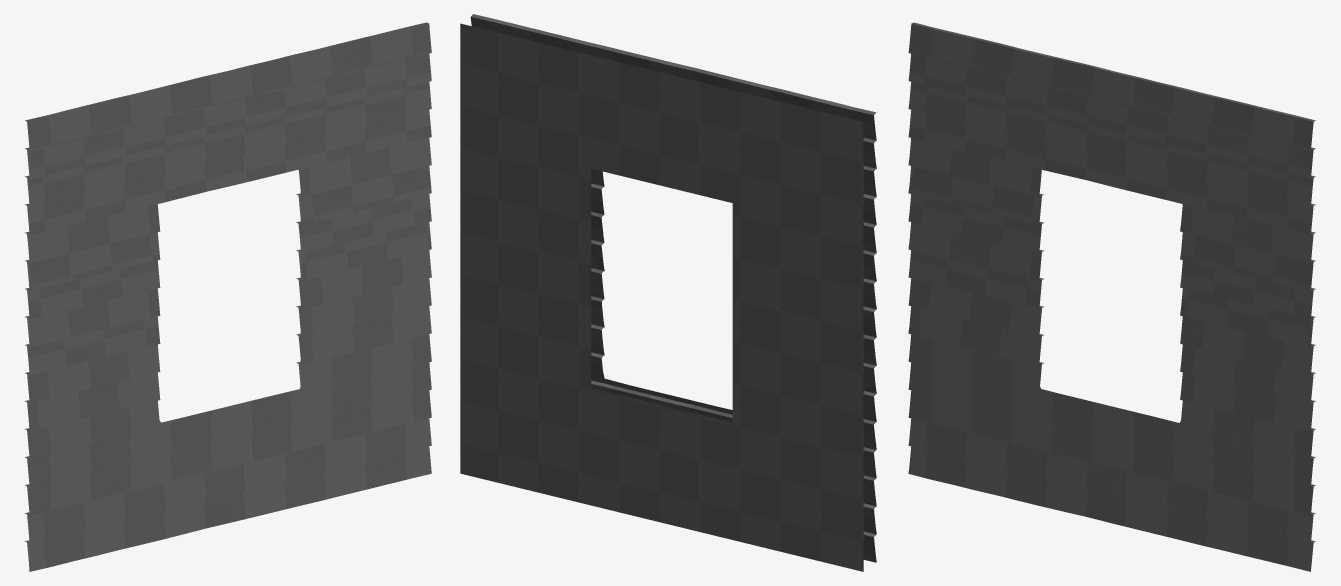
File: SM_House_ExtWall_Window_B2.glb
3 renders of one model, left to right at view 1: azimuth 30°, elevation 25°; view 2: azimuth 150°, elevation 25°; view 3: azimuth 330°, elevation 25°, orthographic.
Parts seen in each view (by area): view 1: SM_House_ExtWall_Window_B2; view 2: SM_House_ExtWall_Window_B2; view 3: SM_House_ExtWall_Window_B2.
Part boxes in pixels (bbox=[...]): SM_House_ExtWall_Window_B2: bbox=[24, 22, 431, 571]; SM_House_ExtWall_Window_B2: bbox=[460, 14, 876, 571]; SM_House_ExtWall_Window_B2: bbox=[908, 22, 1315, 571].
Size of the model in its own units: 300 by 321 by 20.37.
1 material, 1 textured.
